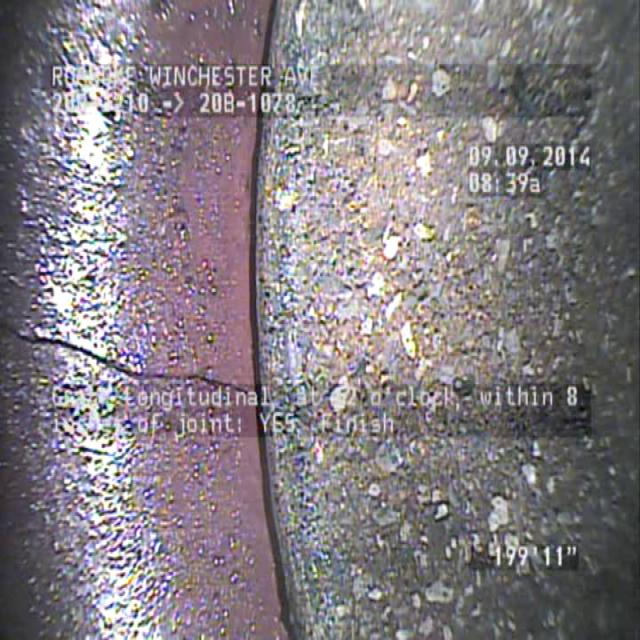Crack: (15, 273, 230, 427)
